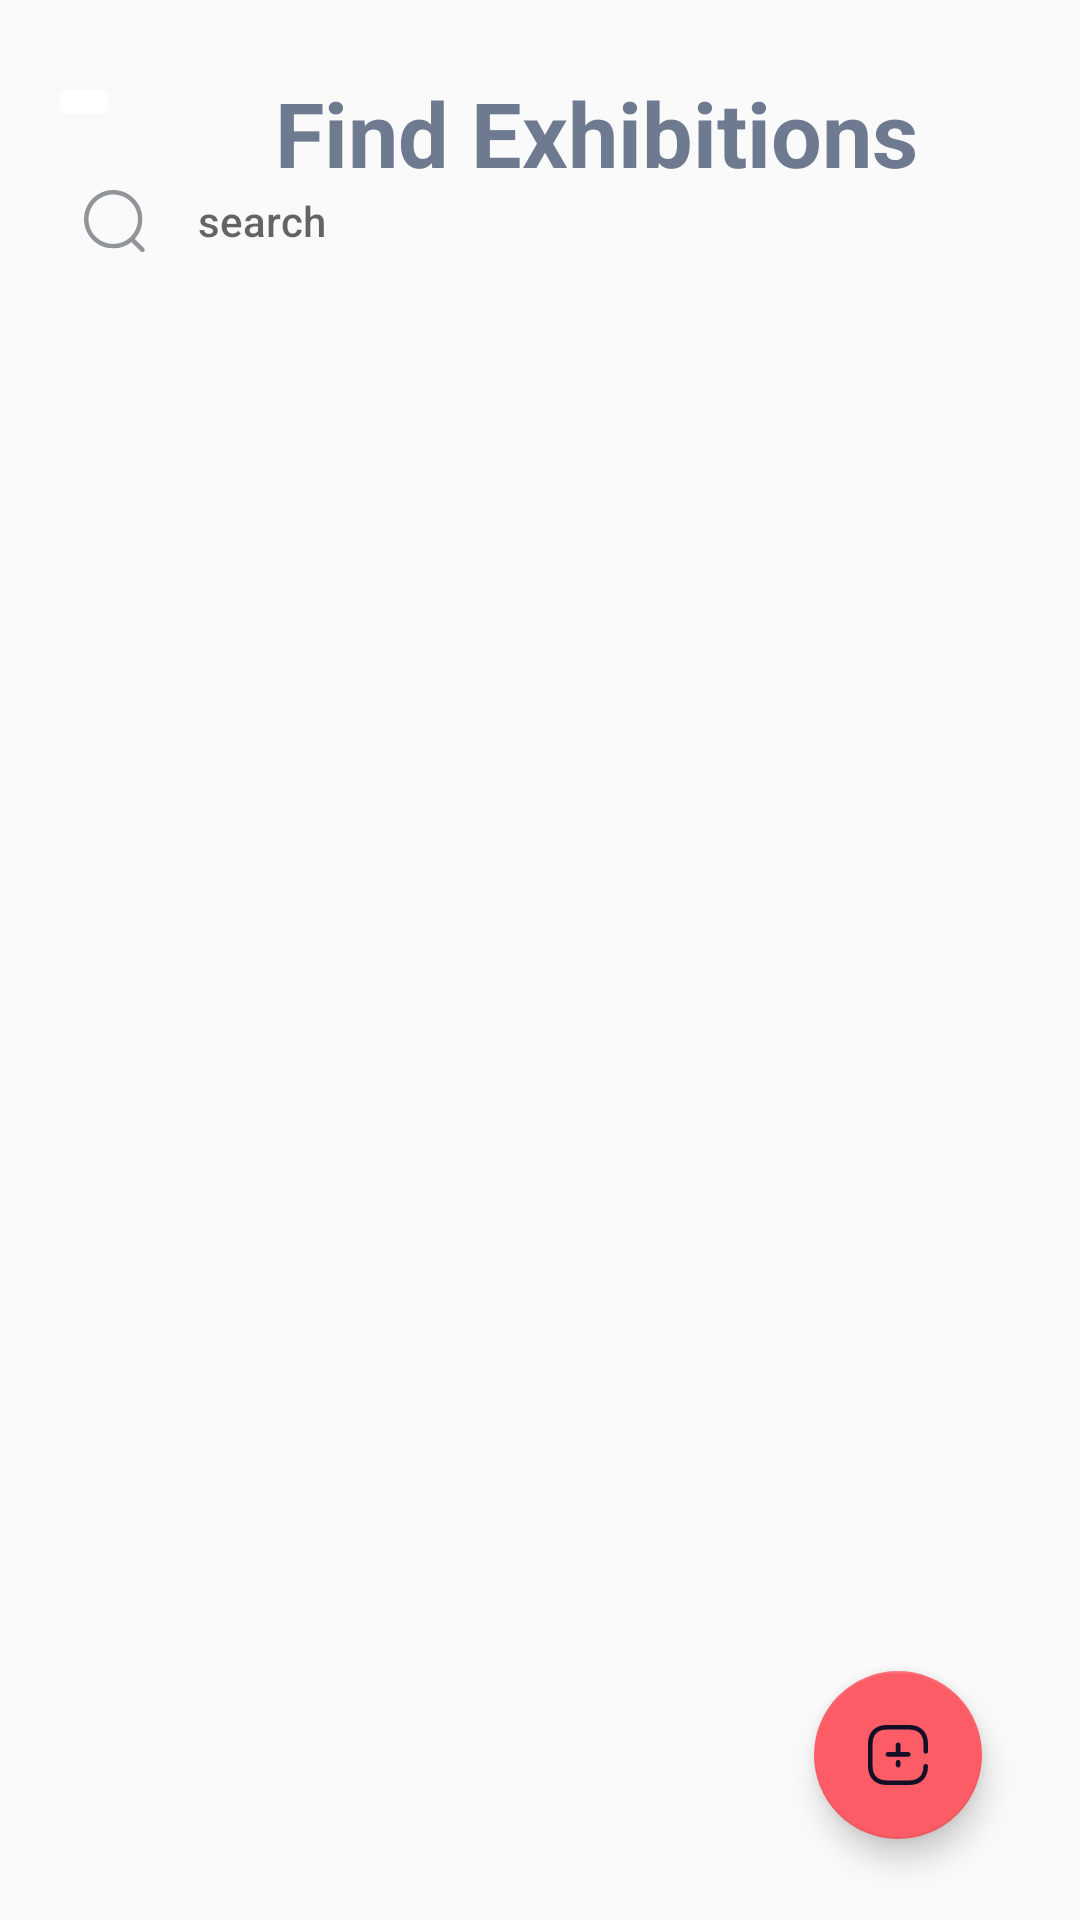

Named icons in this screenshot (1080px×1920px) and their bounding boxes, (x1, y1, x2, y2):
plus: (814, 1671, 982, 1839)
